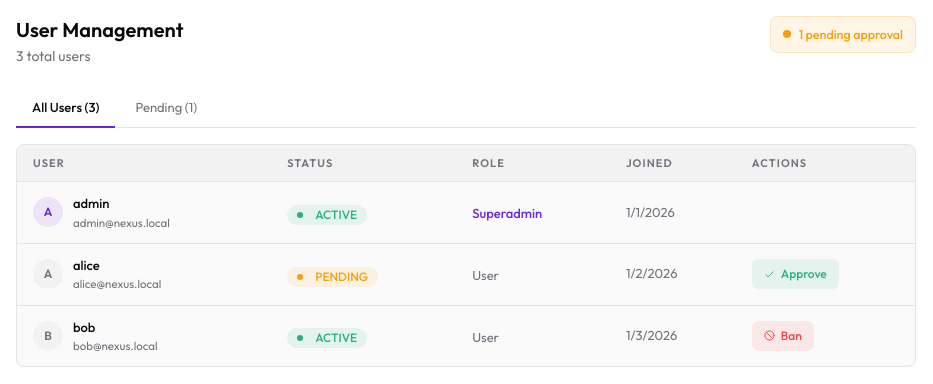
Test: AdminUsersPage › Approve button changes PENDING user to ACTIVE
This screenshot has width=933, height=384.
Expected: the text "alice" is shown, [73,257,100,273]
Click the button "Approve".
click(795, 274)  # box [752,259,839,289]
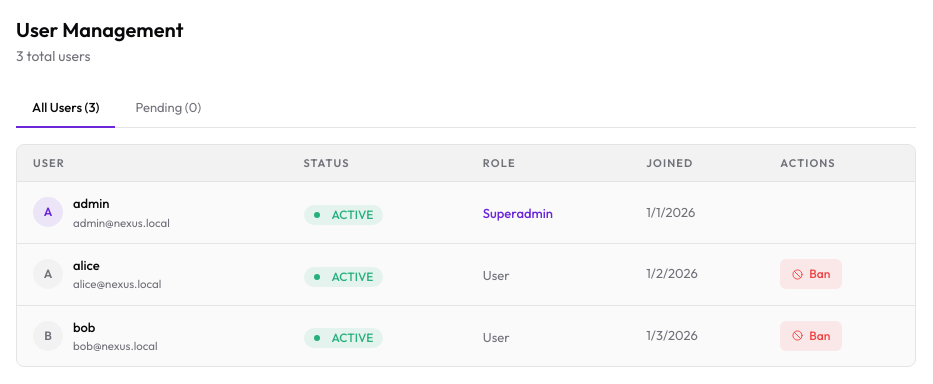
Expected: the button "Approve" is gone
